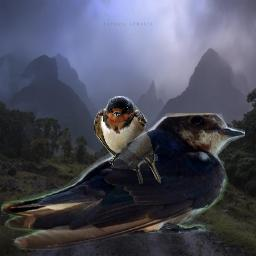Swallow: (1, 113, 245, 250), (94, 96, 161, 184)
